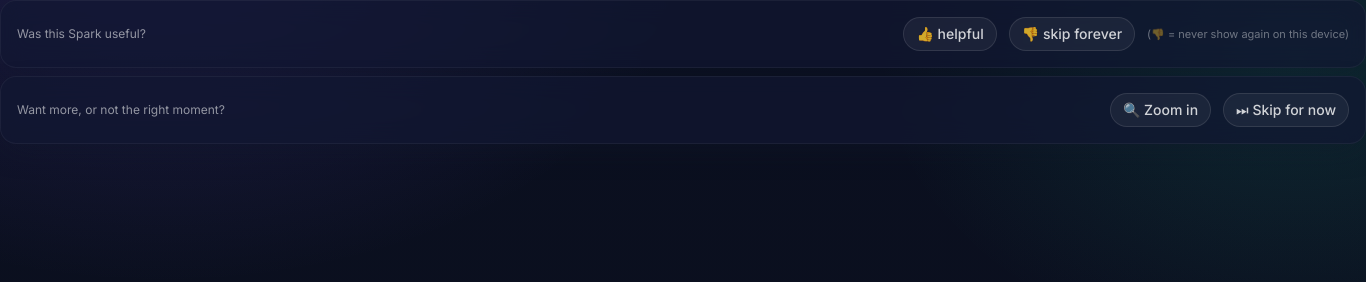
Test: SparkThumbsRow — state-of-mind row › when sourceUrl is provided, a `📚 See source` link appears on Zoom-in expansion
The width and height of the screenshot is (1366, 282).
Click the button "🔍 Zoom in": coordinates (1160, 110) [1110, 93, 1211, 127]
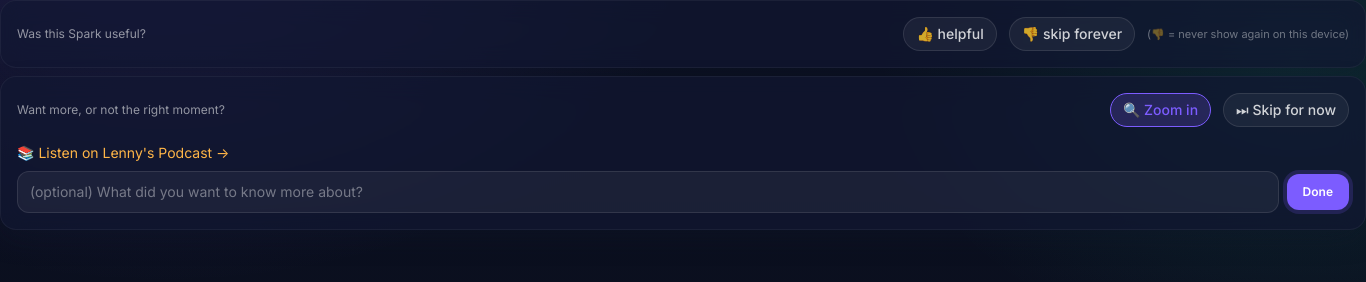
Expected: the link "📚 Listen on Lenny's Podcast →" is shown, [17, 144, 229, 161]
